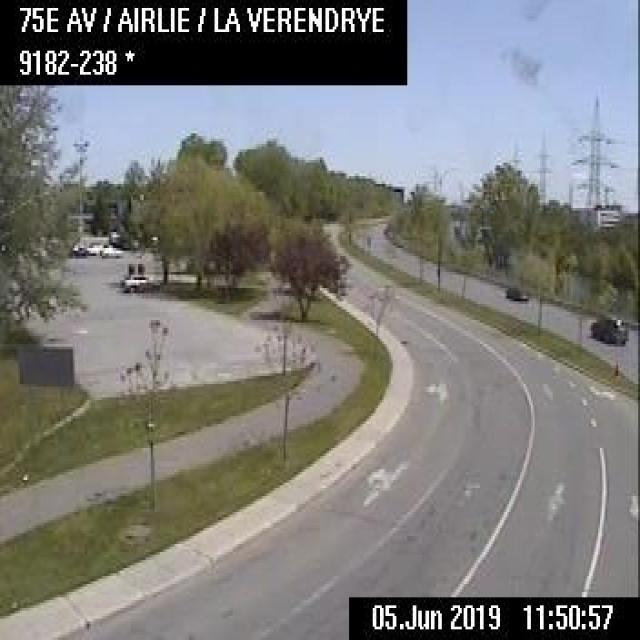vehicle: (587, 312, 629, 347), (119, 272, 158, 291), (504, 283, 531, 301), (98, 243, 124, 258)
